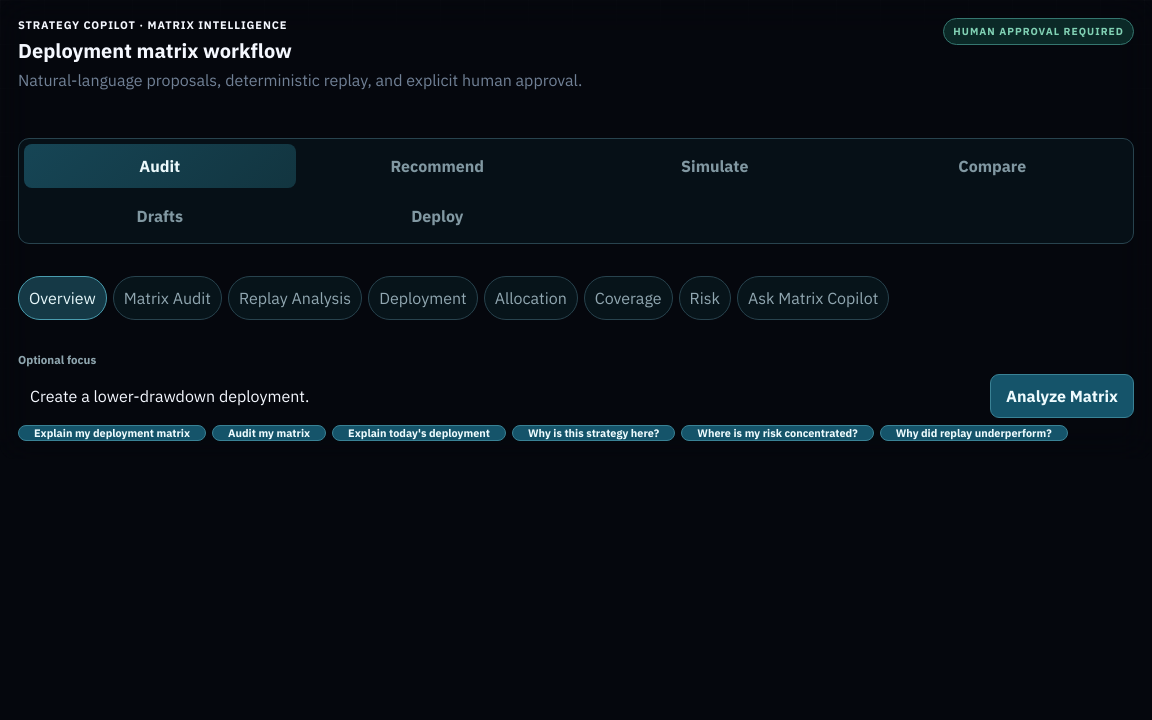
MatrixCopilotPanel › renders read-only matrix audit results and evidence
This screenshot has width=1152, height=720.
Step 1. Click the button "Matrix Audit" → (167, 298), box [113,276,222,320]
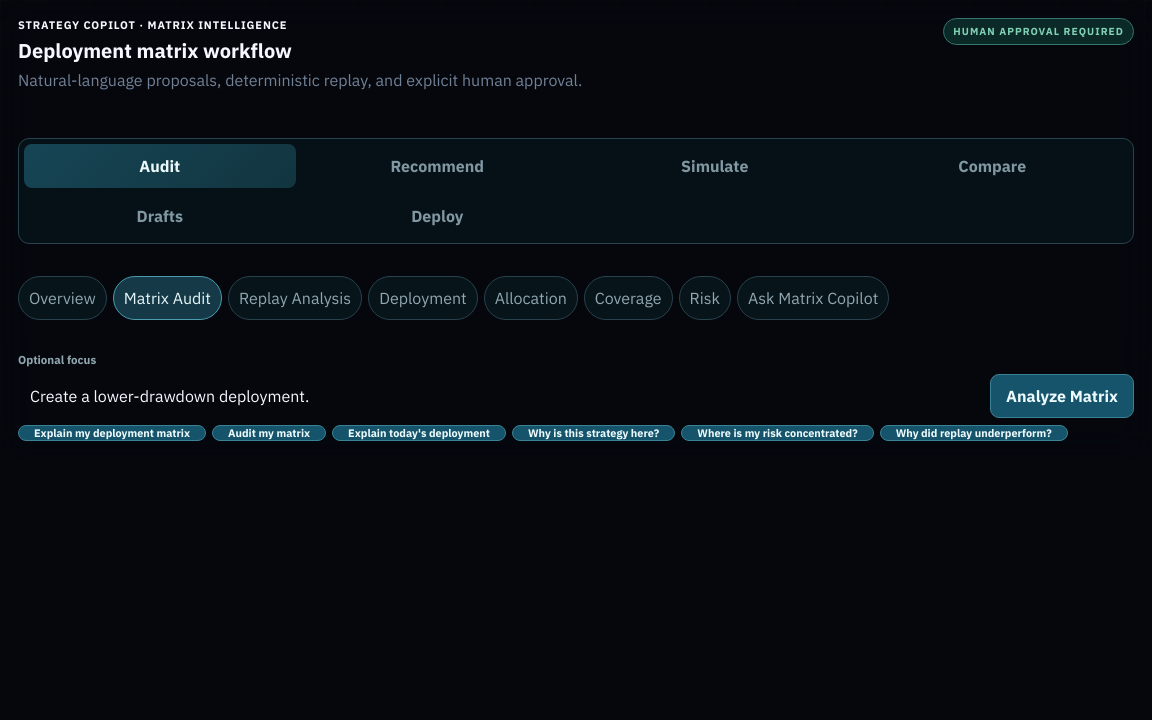
Step 2. Click the button "Analyze Matrix" → (1062, 396), box [990,374,1134,418]
(page scrolled)
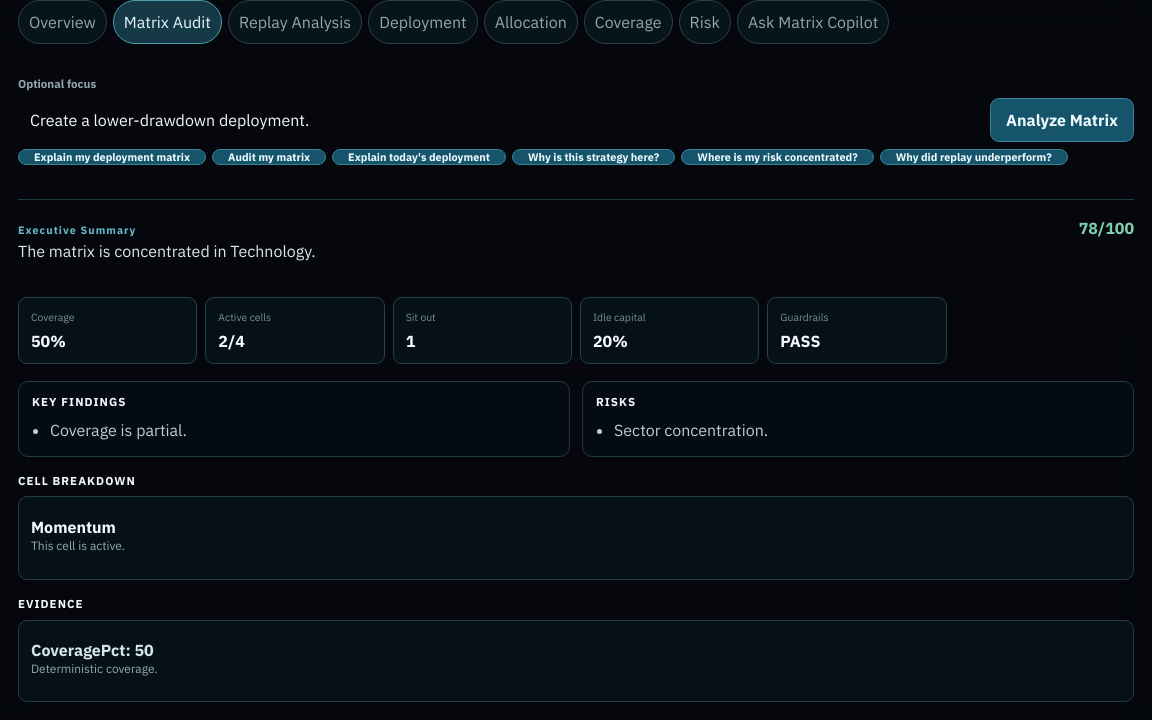
expect the text "The matrix is concentrated in Technology." is shown: met, box [18,238,316,264]
expect the text "50%" is shown: met, box [31,331,66,351]
expect the text "This cell is active." is shown: met, box [31,538,125,553]
